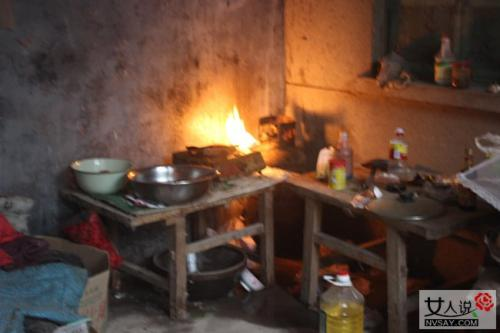fire: (218, 102, 261, 153)
